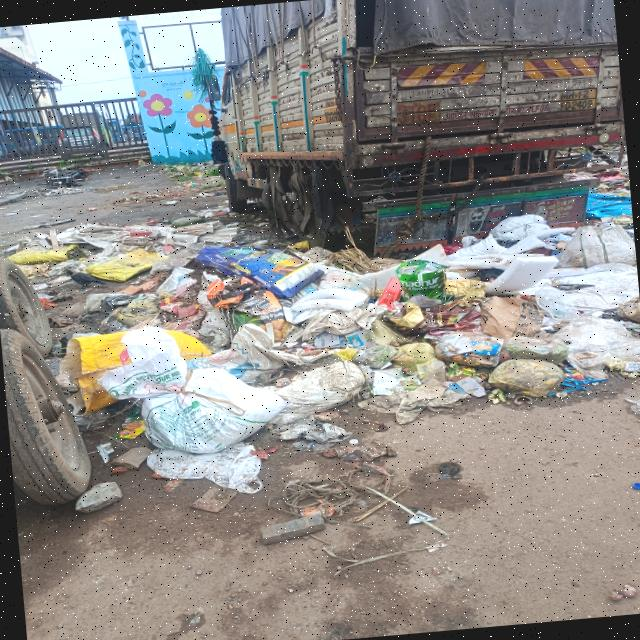garbage: (28, 208, 354, 471), (346, 217, 640, 414)
